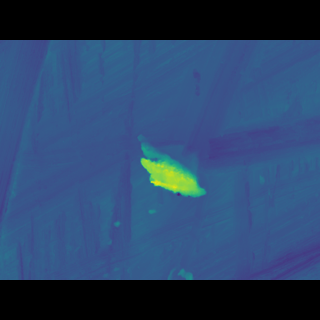Loch: (132, 137, 210, 191)
